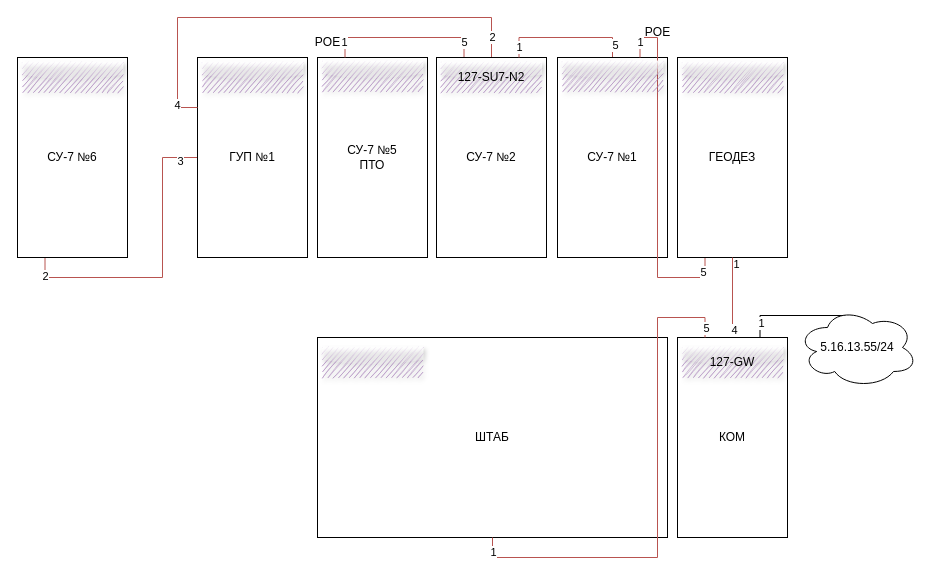
The diagram is 935 pixels wide and 576 high, and some of its shapes have lost their labels. Here are the shapes that lost their labels. From the top down, the centre of each, then its label:
At point (73, 78): "127-SU7-N6".
At point (253, 78): "127-GUP-N1".
At point (373, 77): "127-SU7-N5-PTO".
At point (613, 77): "127-SU7-N1".
At point (733, 78): "127-GEODEZ".
At point (373, 363): "127-exPR".
